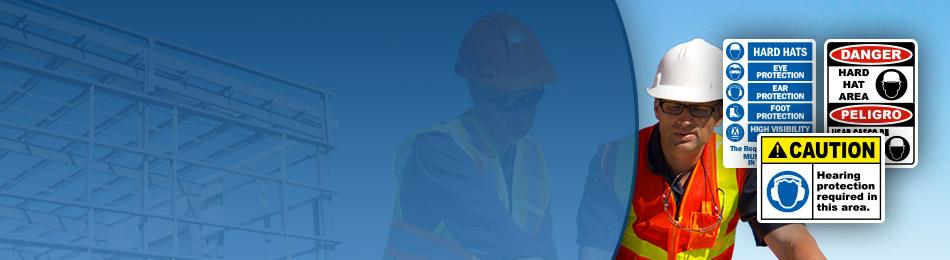helmet: (456, 12, 561, 94), (649, 38, 726, 104)
